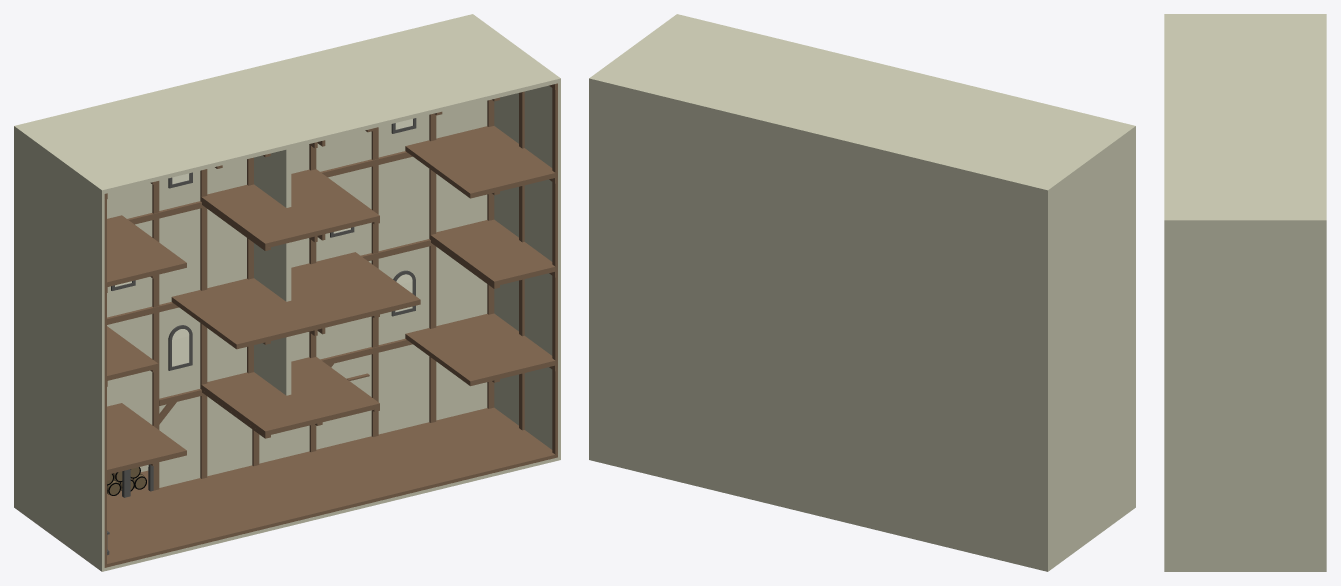
File: tavern_building_v10.fbx
3 views of the same model, side by side, from view 1: azimuth 30°, elevation 25°; view 2: azimuth 150°, elevation 25°; view 3: azimuth 270°, elevation 25° (orthographic). The views are drawn at different scales.
Visible parts, largest first — view 1: building, wall_back1, ground, wall_back2, platform4, platform6, platform, platform3, platform8, platform5, platform7, platform2 (+17 smaller); view 2: building; view 3: building.
Boxes of the visible parts, box(x1,y1,x2,y2) form: building: box(14, 14, 560, 571); wall_back1: box(107, 100, 487, 406); ground: box(104, 407, 557, 567); wall_back2: box(128, 344, 487, 487); platform4: box(171, 252, 420, 349); platform6: box(200, 169, 379, 248); platform: box(200, 357, 379, 436); platform3: box(405, 313, 557, 386); platform8: box(405, 126, 557, 198); platform5: box(429, 219, 557, 286); platform7: box(104, 215, 186, 287); platform2: box(104, 403, 186, 475); building: box(589, 14, 1135, 571); building: box(1164, 14, 1326, 571).
Size of the model in its own units: 198 by 157 by 65.81.
